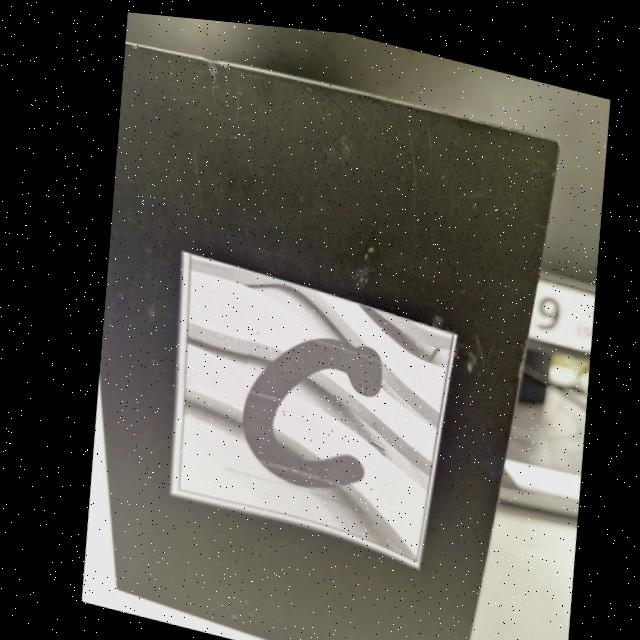C: (236, 333, 380, 483)
